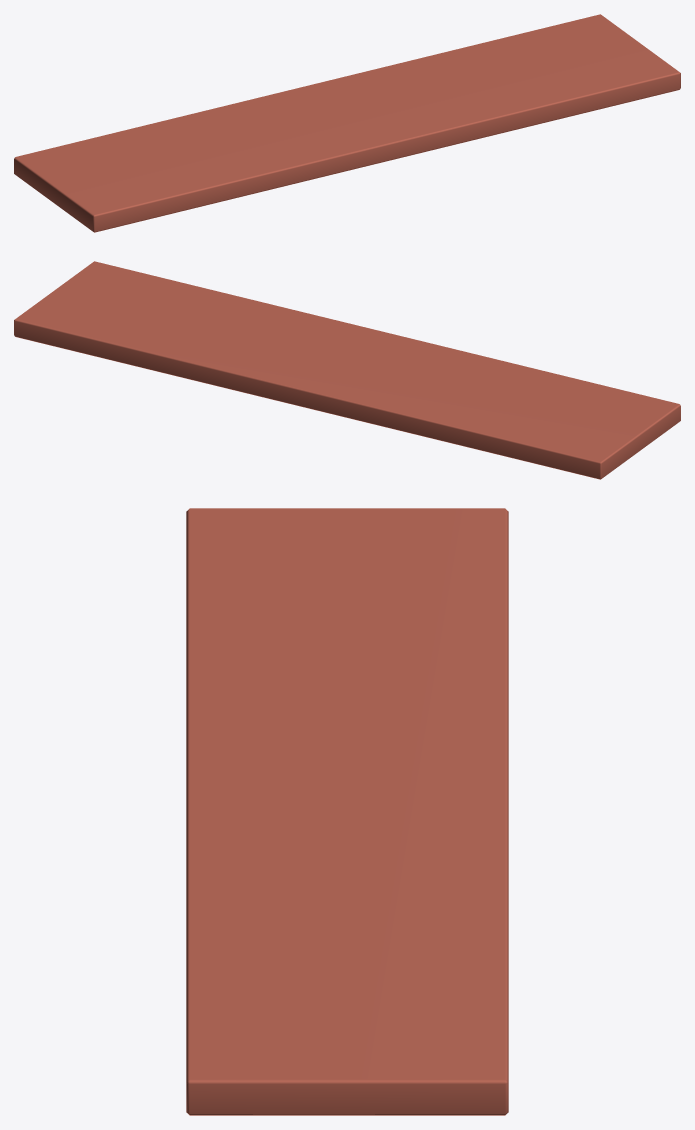
The model's file is raf3.fbx.
The picture shows the model from 3 angles, top to bottom: view 1: azimuth 30°, elevation 25°; view 2: azimuth 150°, elevation 25°; view 3: azimuth 270°, elevation 25°; orthographic projection. The views are drawn at different scales.
Visible parts, largest first — view 1: pCube54; view 2: pCube54; view 3: pCube54.
Boxes of the visible parts, x1,y1,x2,y2 form: pCube54: [14, 14, 680, 232]; pCube54: [14, 261, 680, 479]; pCube54: [186, 508, 508, 1115].
Bounding box in the file's own units: 164 × 4.82 × 39.05.
